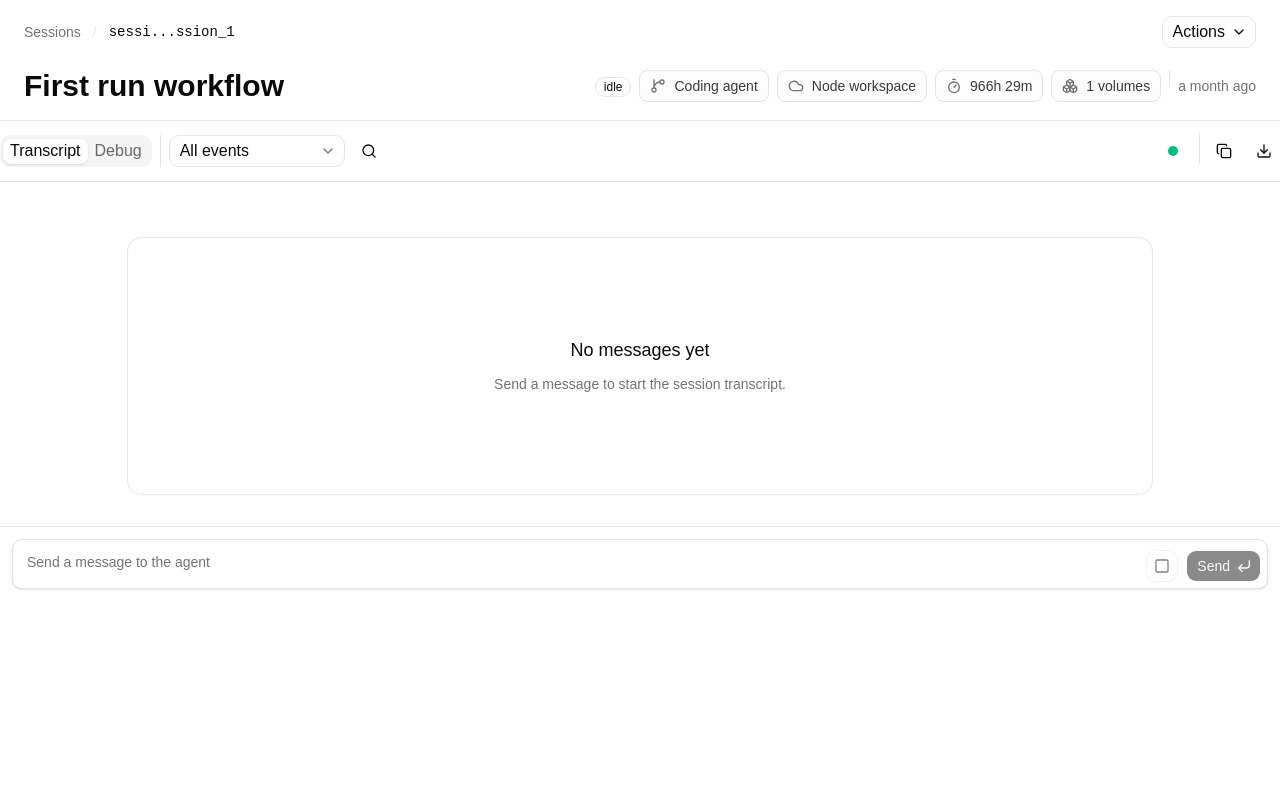
it: [spec: sessions/console-detail] [spec: sessions/console-transcript] sessions UI contracts › renders memory store resources without exposing memory contents
Click the button with aria-label "Open session volumes" at (1106, 86), box [1051,70,1161,102]
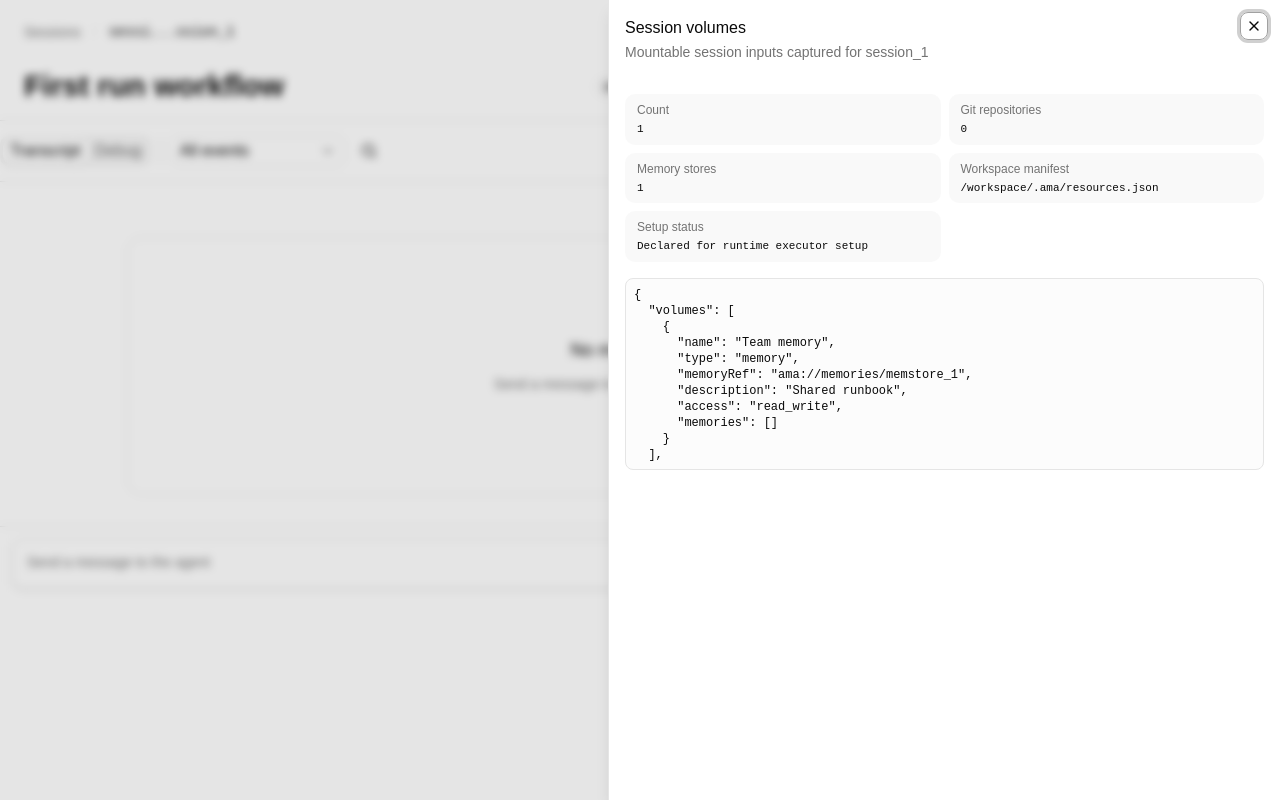
Expected: the heading "Session volumes" is shown, [625,19,746,36]
Expected: the text "memstore_1" is shown, [634,288,1073,461]
